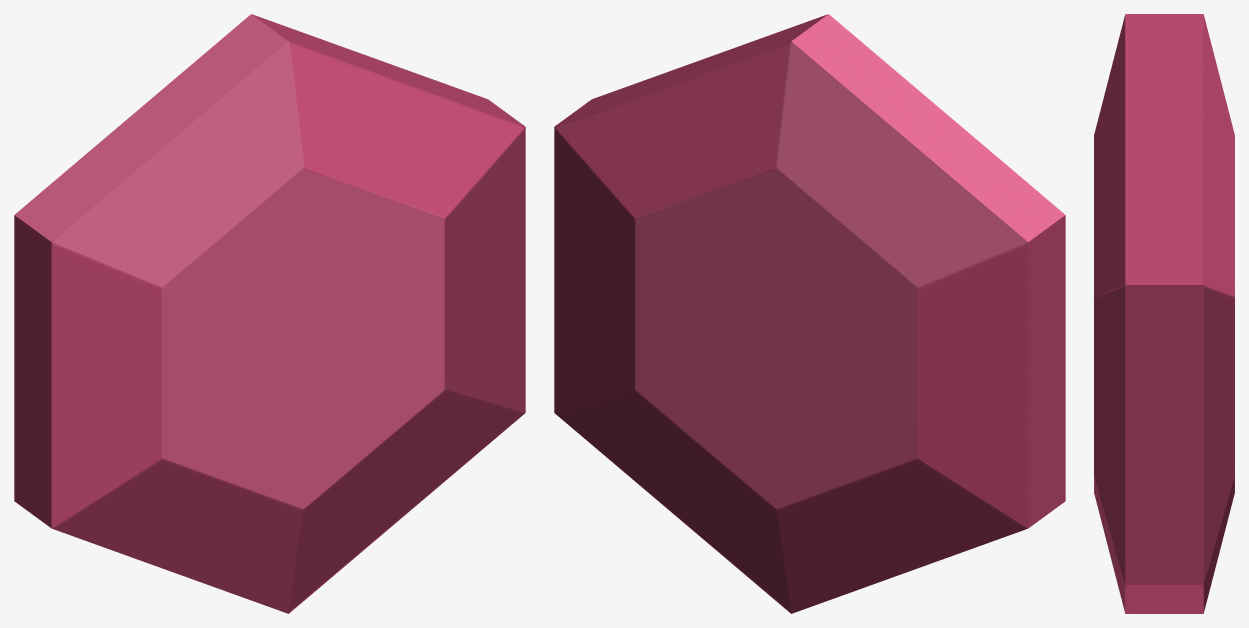
The model's file is Dia_01@Turn.FBX.
3 views of the same model, side by side, from view 1: azimuth 30°, elevation 25°; view 2: azimuth 150°, elevation 25°; view 3: azimuth 270°, elevation 25° (orthographic). The views are drawn at different scales.
Parts seen in each view (by area): view 1: Dia_01; view 2: Dia_01; view 3: Dia_01.
Boxes of the visible parts, <box> form: Dia_01: <box>14,14,525,613</box>; Dia_01: <box>554,14,1065,613</box>; Dia_01: <box>1094,14,1234,613</box>.
Bounding box in the file's own units: 3.37 × 3.89 × 0.8268.
